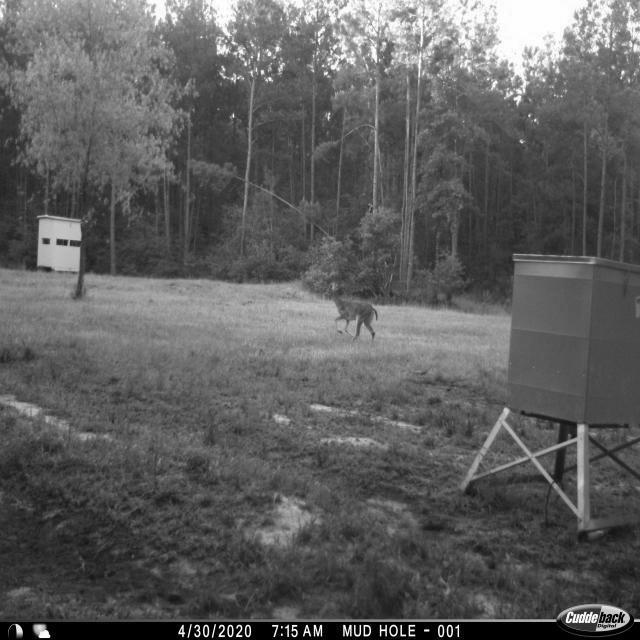Deer: (322, 280, 384, 348)
